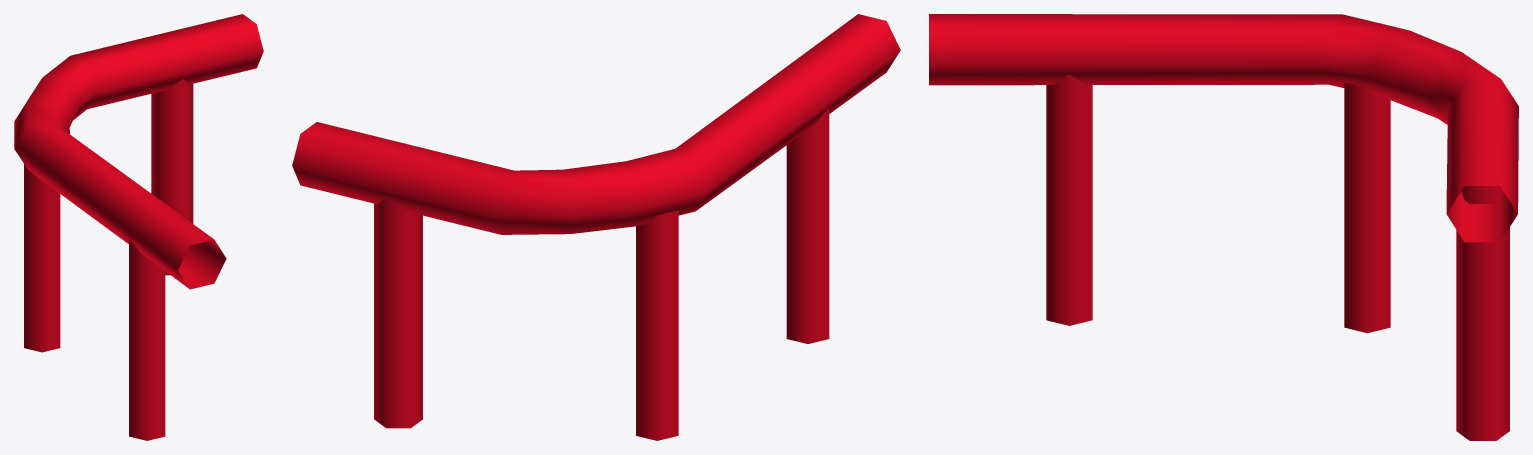
The model's file is V2_Pipemetal2.fbx.
3 renders of one model, left to right at view 1: azimuth 30°, elevation 25°; view 2: azimuth 150°, elevation 25°; view 3: azimuth 270°, elevation 25°, orthographic. The views are drawn at different scales.
Visible parts, largest first — view 1: V2_Pipemetal2; view 2: V2_Pipemetal2; view 3: V2_Pipemetal2.
Part boxes in pixels (x1=…): V2_Pipemetal2: x1=14, y1=14, x2=263, y2=440; V2_Pipemetal2: x1=292, y1=14, x2=900, y2=440; V2_Pipemetal2: x1=929, y1=14, x2=1518, y2=440.
Size of the model in its own units: 1.37 by 1.04 by 1.9.
